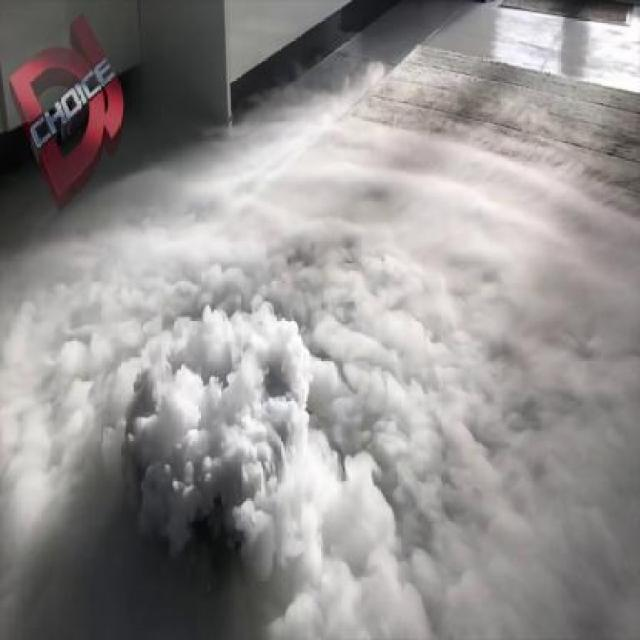smoke: (7, 151, 640, 640)
